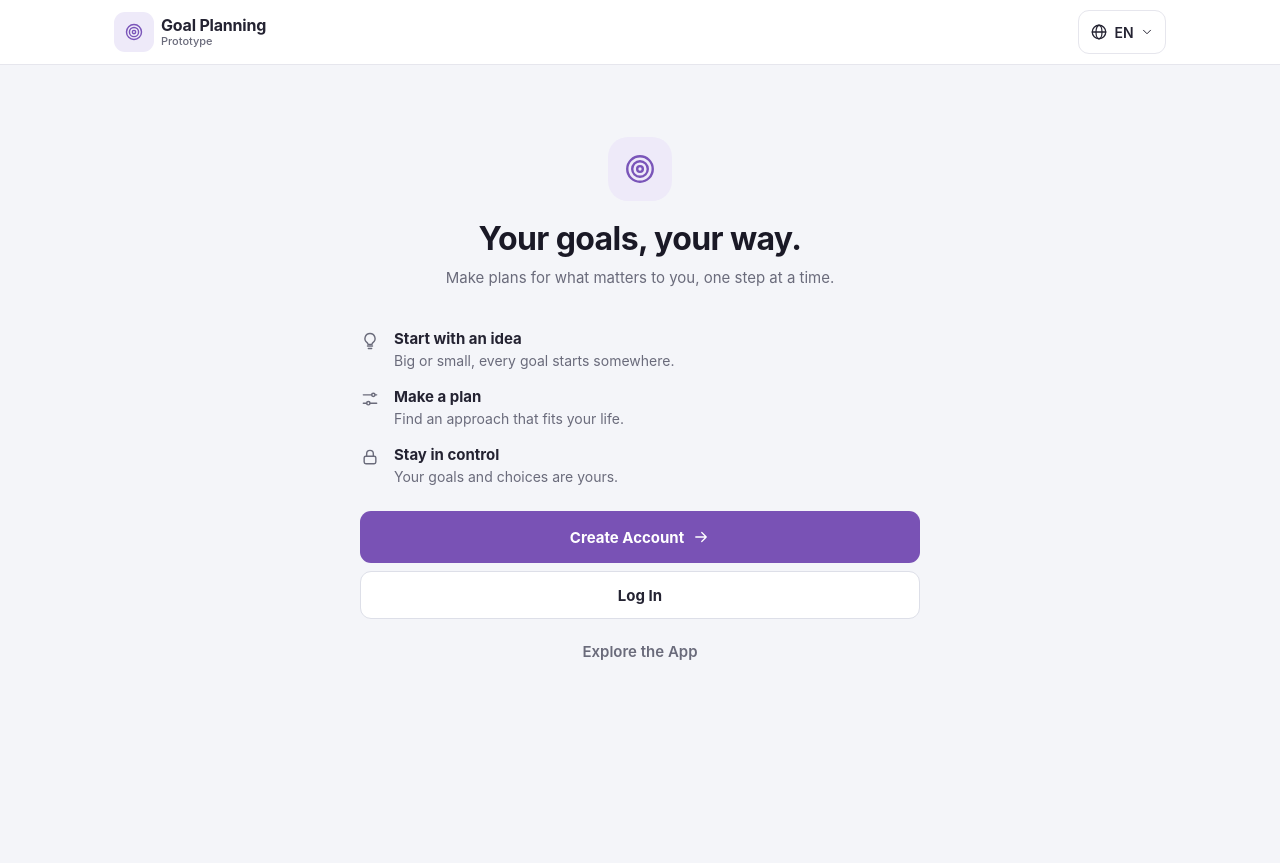
it: Money: the month and the blocks › shows Savings by purpose as Home does, with the Emergency Fund and the goals counted once
Click the button "Explore the App" at [640, 651], box [360,627,920,675]
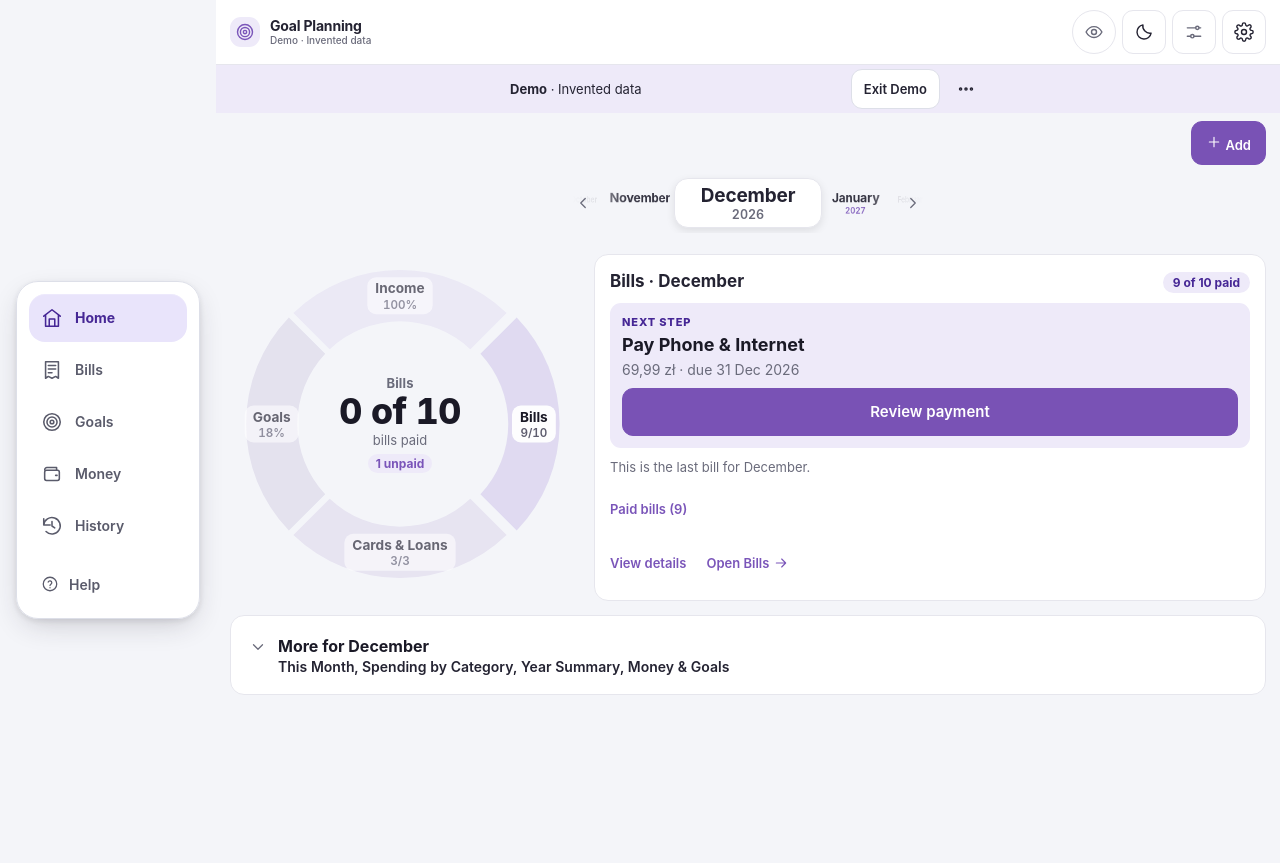
Click the button named "Home options" at [1194, 32], box [1172,10,1216,54]
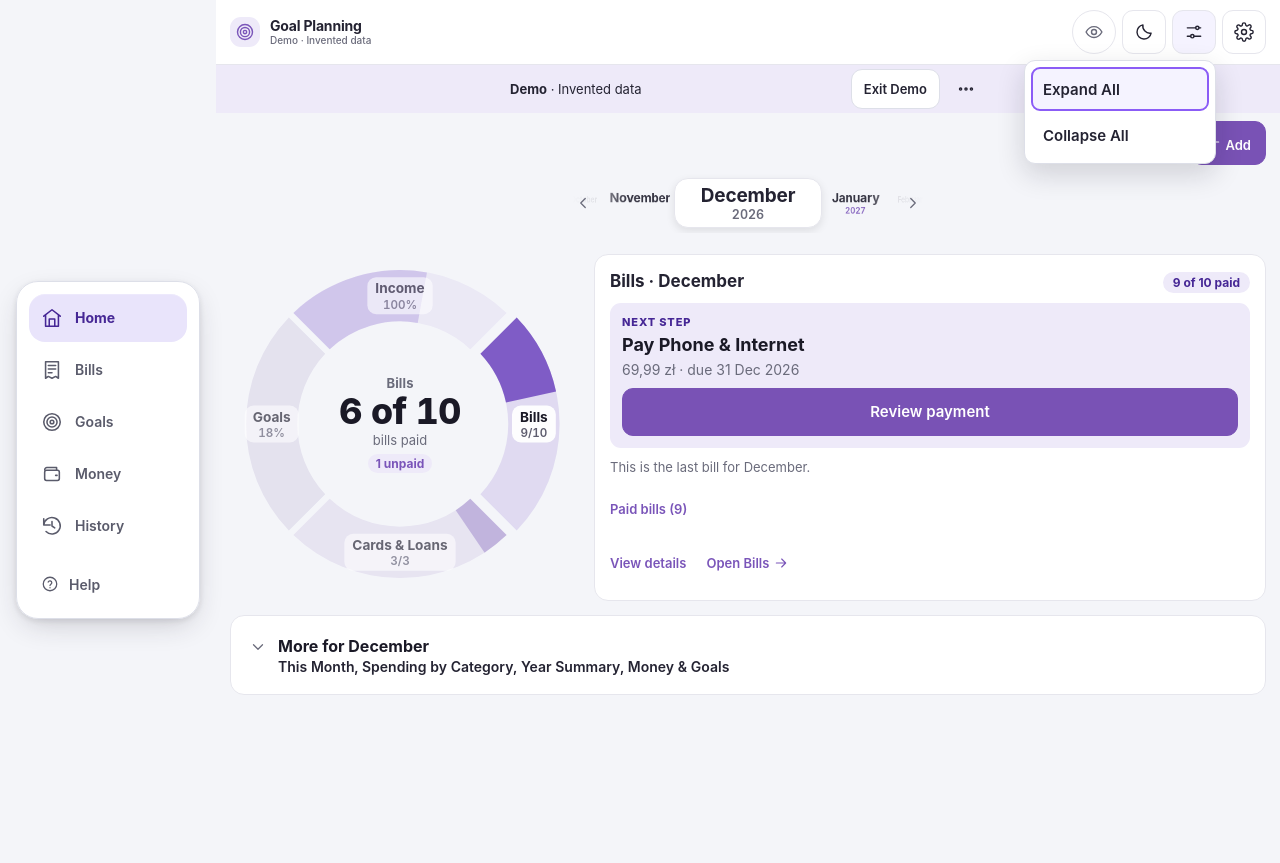
Click the menu item "Expand All" at [1120, 89], box [1031,67,1209,111]
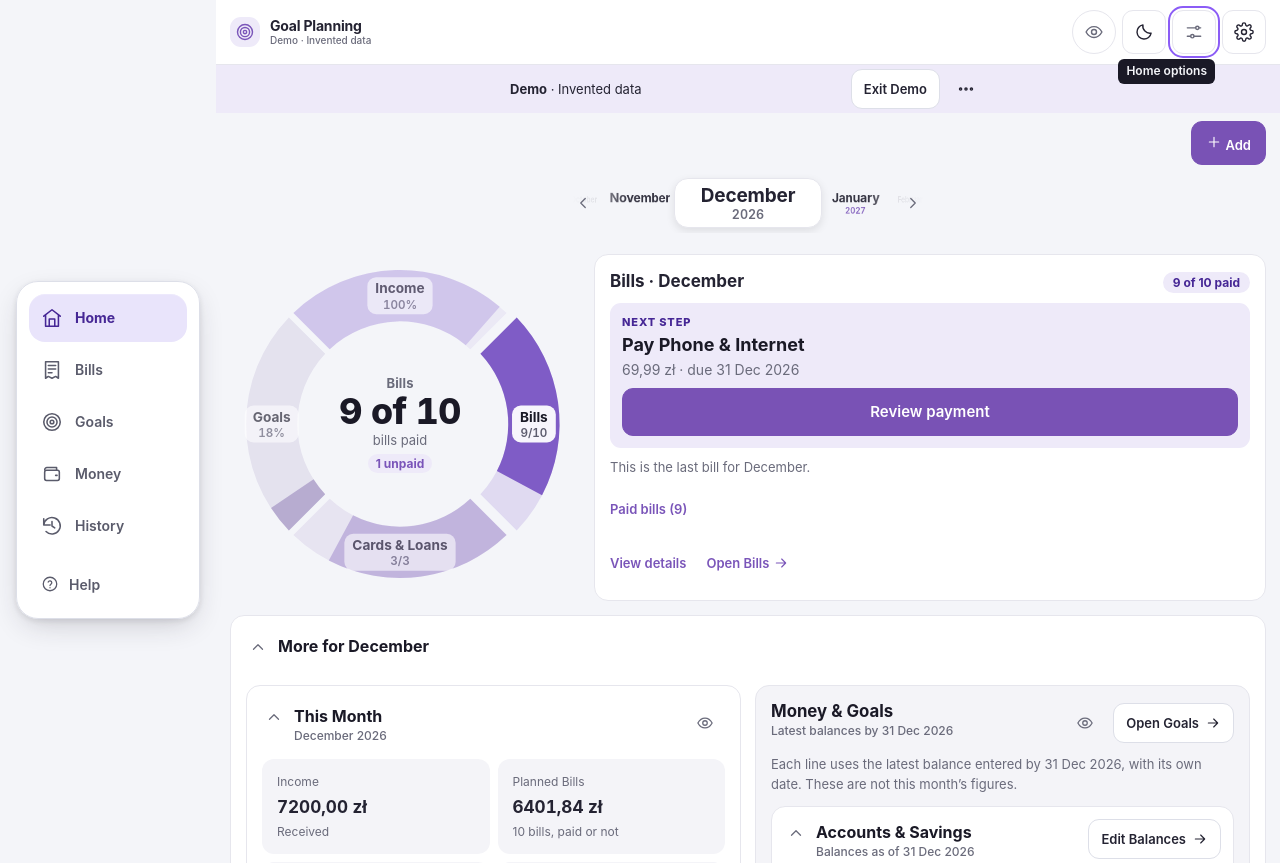
Click the button "Money" at [108, 474], box [29,450,187,498]
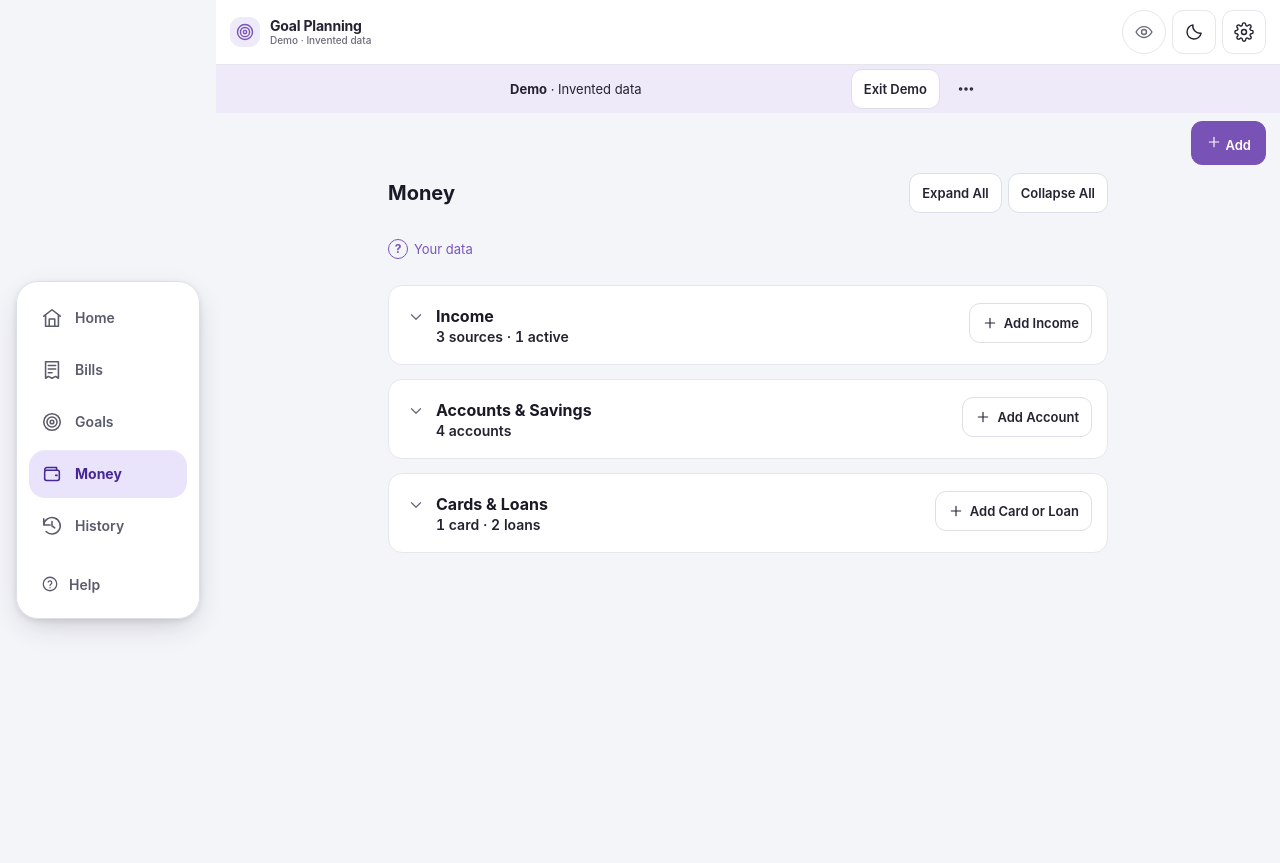
Click the button "Accounts & Savings 4 accounts" at [514, 410], box [404,395,950,443]
(page scrolled)
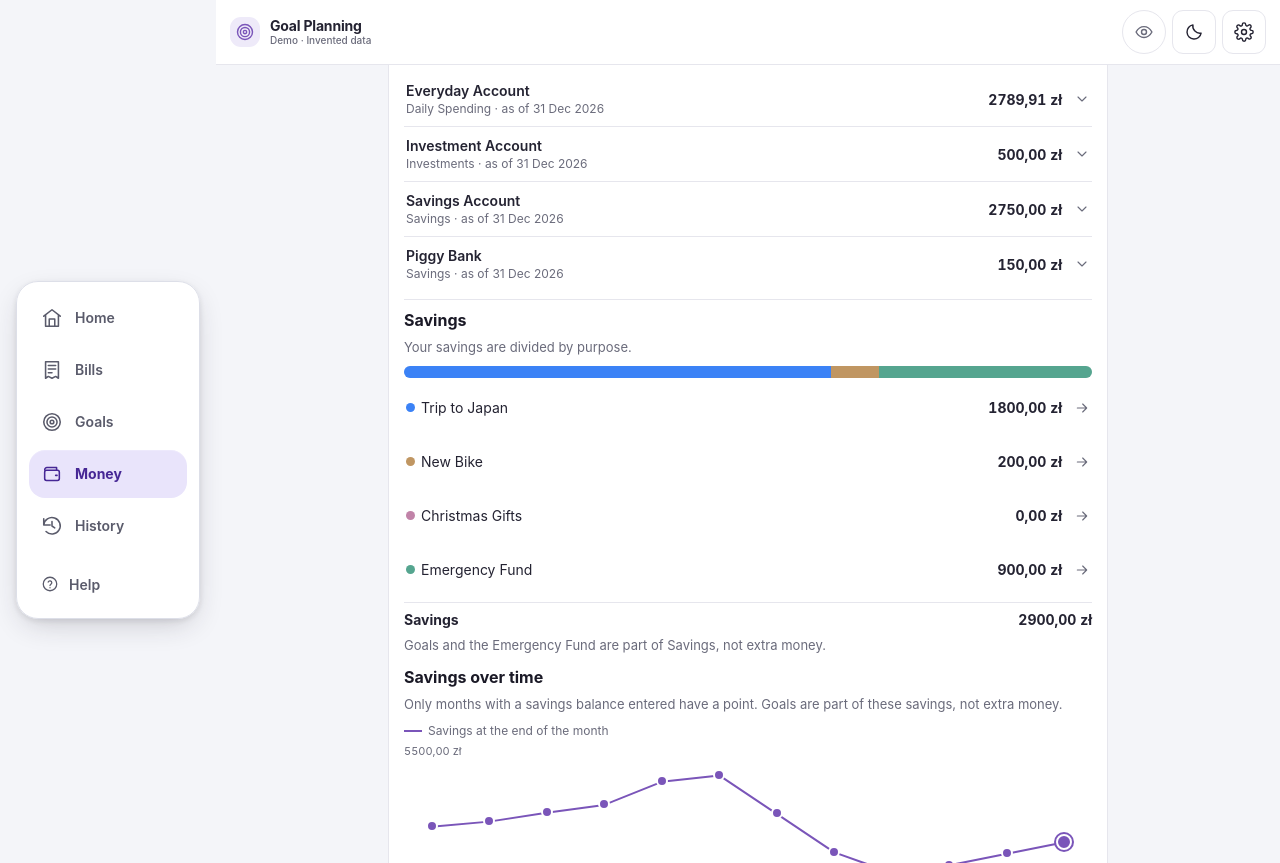
Now the element named "Savings by purpose" shows "part of Savings, not extra money", box [404,636,826,652]
